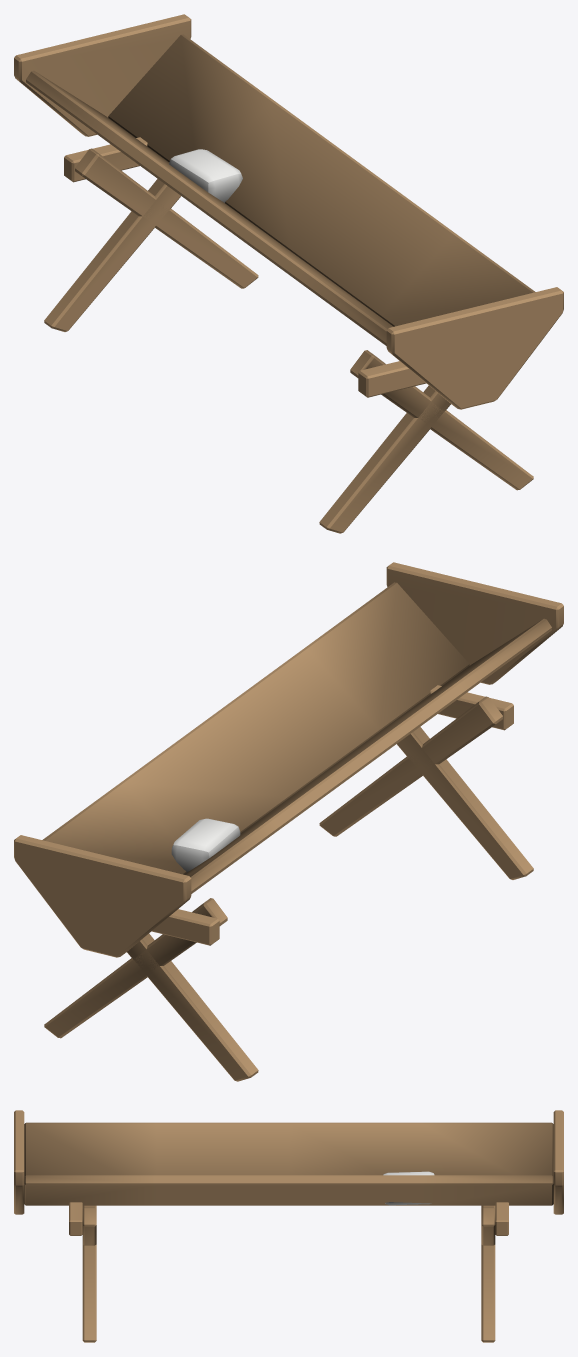
File: trough.glb
The picture shows the model from 3 angles, top to bottom: view 1: azimuth 30°, elevation 25°; view 2: azimuth 150°, elevation 25°; view 3: azimuth 270°, elevation 25°; orthographic projection. The views are drawn at different scales.
Visible parts, largest first — view 1: PART; view 2: PART; view 3: PART.
Part boxes in pixels (x1,y1,x2,y2): PART: (14, 14, 563, 533); PART: (14, 562, 563, 1081); PART: (14, 1110, 563, 1342).
Size of the model in its own units: 0.5044 by 0.5477 by 1.6.
